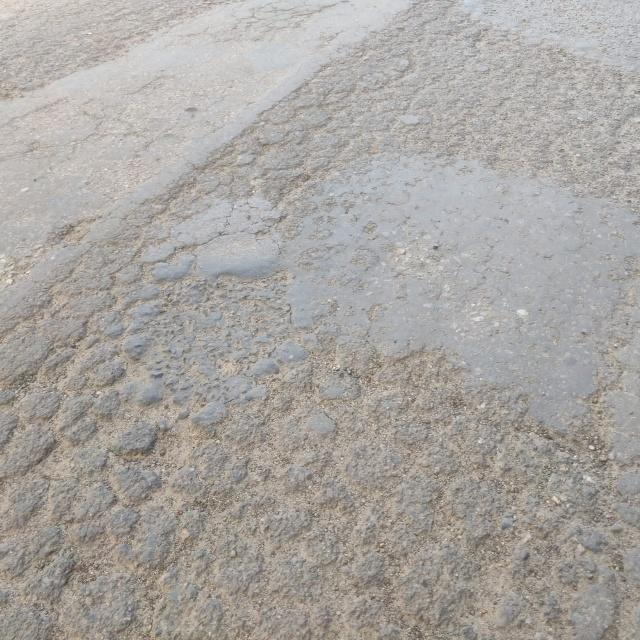Crack: (32, 68, 640, 628)
